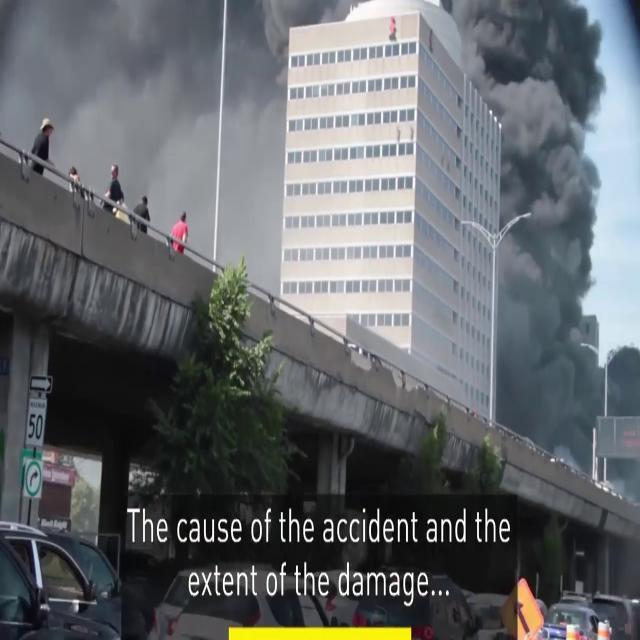Fire: (513, 569, 545, 639)
Smoke: (467, 1, 636, 439), (0, 0, 288, 154)
